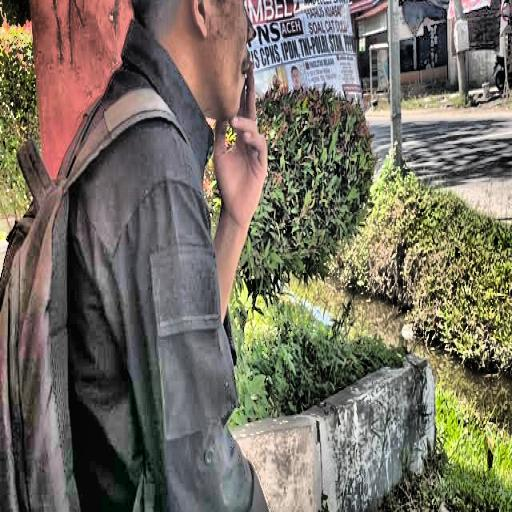Rokok: (162, 0, 266, 317)
